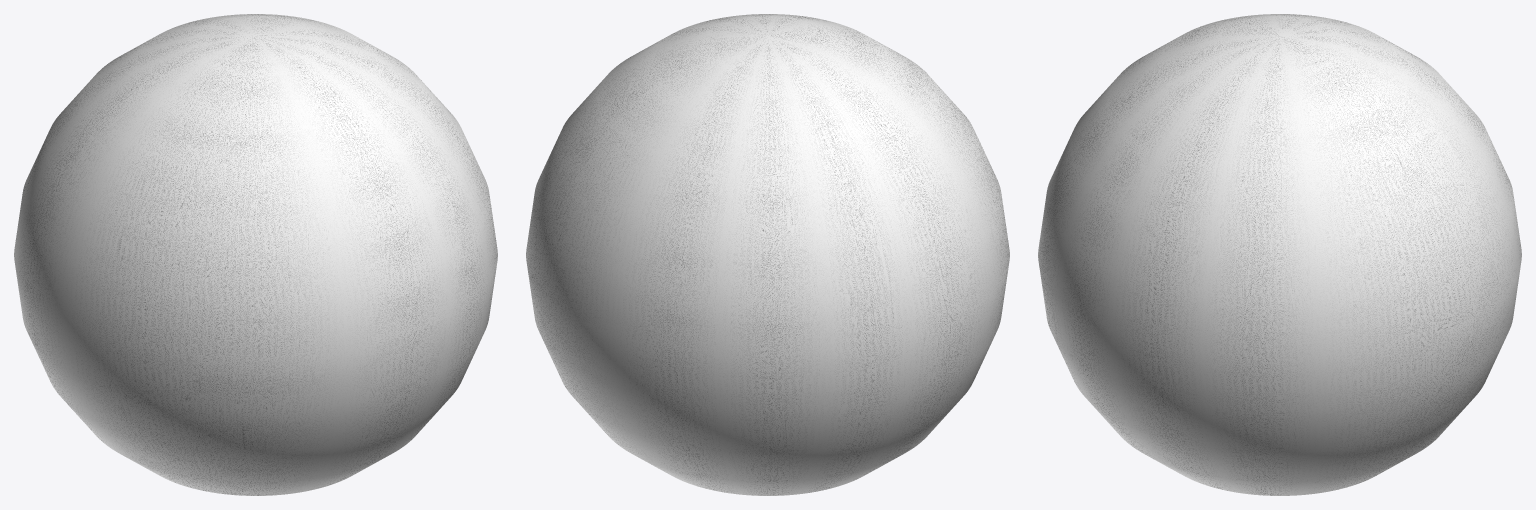
The model's file is original-131.obj.
The picture shows the model from 3 angles, left to right: view 1: azimuth 30°, elevation 25°; view 2: azimuth 150°, elevation 25°; view 3: azimuth 270°, elevation 25°; orthographic projection.
Visible parts, largest first — view 1: instance_7/shpere__bille_ball_bola__de_diam_1_M/instance_6/shper; view 2: instance_7/shpere__bille_ball_bola__de_diam_1_M/instance_6/shper; view 3: instance_7/shpere__bille_ball_bola__de_diam_1_M/instance_6/shper.
Boxes of the visible parts, x1,y1,x2,y2 form: instance_7/shpere__bille_ball_bola__de_diam_1_M/instance_6/shper: [14, 14, 497, 495]; instance_7/shpere__bille_ball_bola__de_diam_1_M/instance_6/shper: [526, 14, 1009, 495]; instance_7/shpere__bille_ball_bola__de_diam_1_M/instance_6/shper: [1038, 14, 1521, 495].
Bounding box in the file's own units: 0.0078 × 0.0078 × 0.0078.
Materials: 2 (1 with a texture image).
